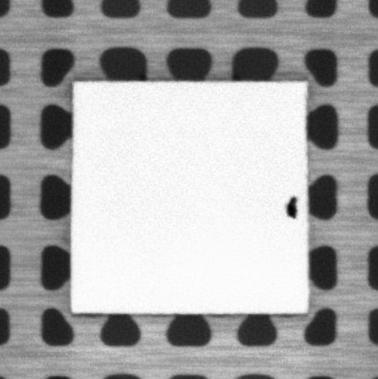DIE_INK: (285, 195, 297, 219)
